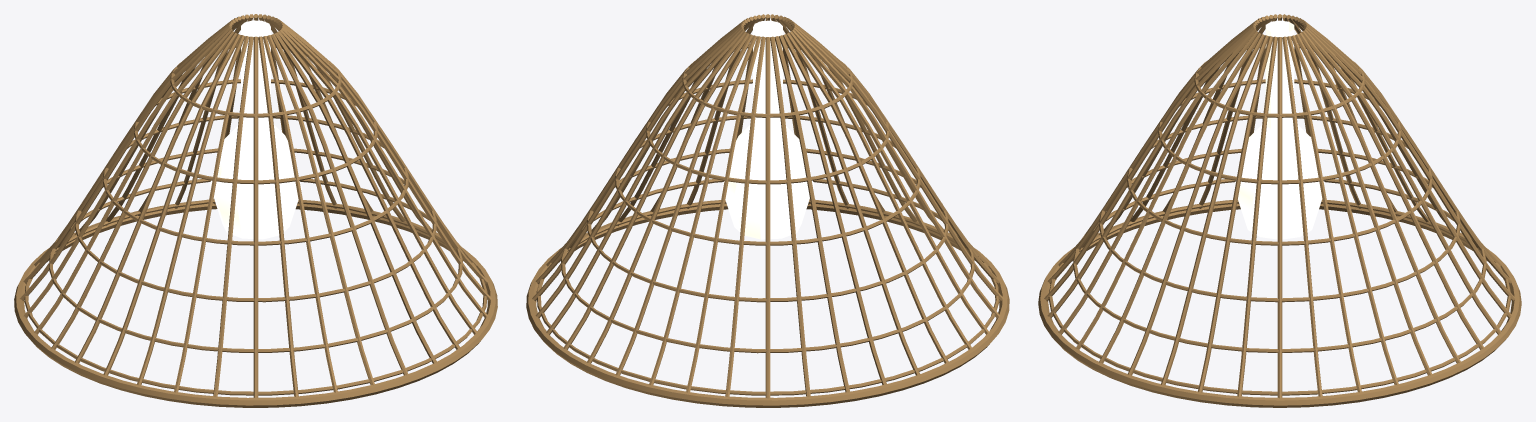
File: rattan.glb
3 views of the same model, side by side, from view 1: azimuth 30°, elevation 25°; view 2: azimuth 150°, elevation 25°; view 3: azimuth 270°, elevation 25° (orthographic).
Parts seen in each view (by area): view 1: rattan; view 2: rattan; view 3: rattan.
Boxes of the visible parts, x1,y1,x2,y2 form: rattan: [14, 14, 497, 407]; rattan: [526, 14, 1009, 407]; rattan: [1038, 14, 1521, 407].
Bounding box in the file's own units: 0.5719 × 0.3675 × 0.5719.
